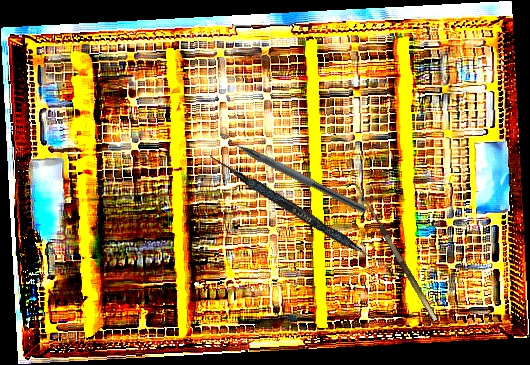Chopper: (215, 124, 373, 215)
Hook Surgical: (345, 180, 439, 326)
Spatula Surgical: (205, 153, 401, 277)
